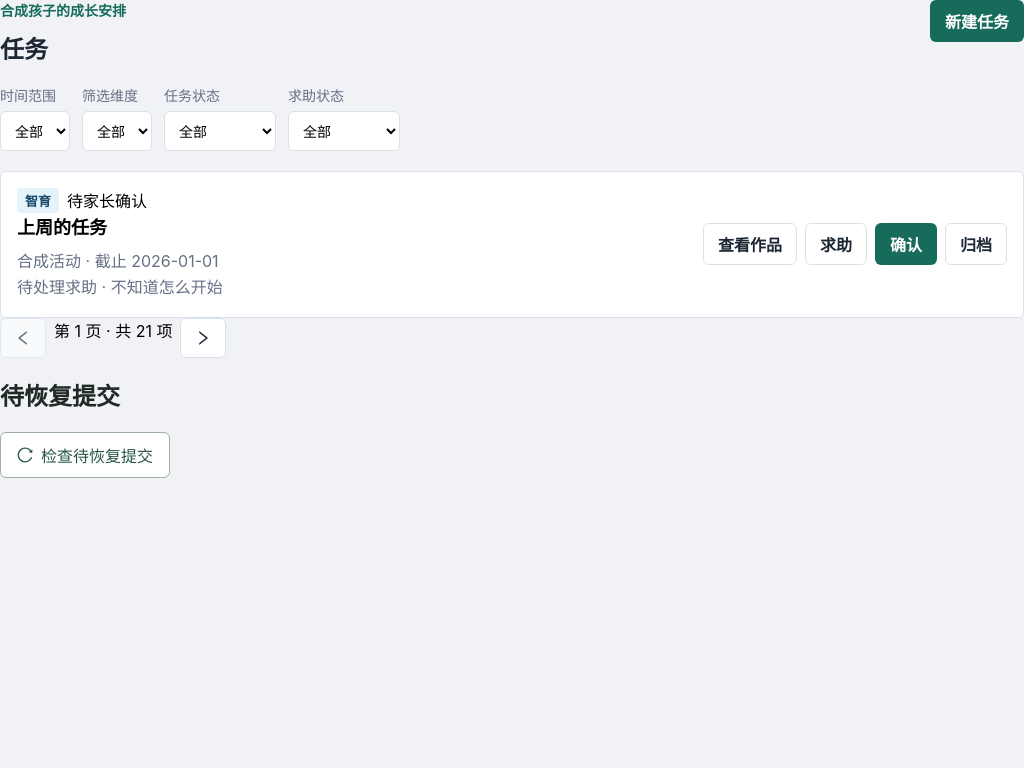
Test: parent list 401 after a successful reply clears the private help dialog
Click the button with aria-label "求助 上周的任务".
click(836, 244)  # box [805,224,867,266]
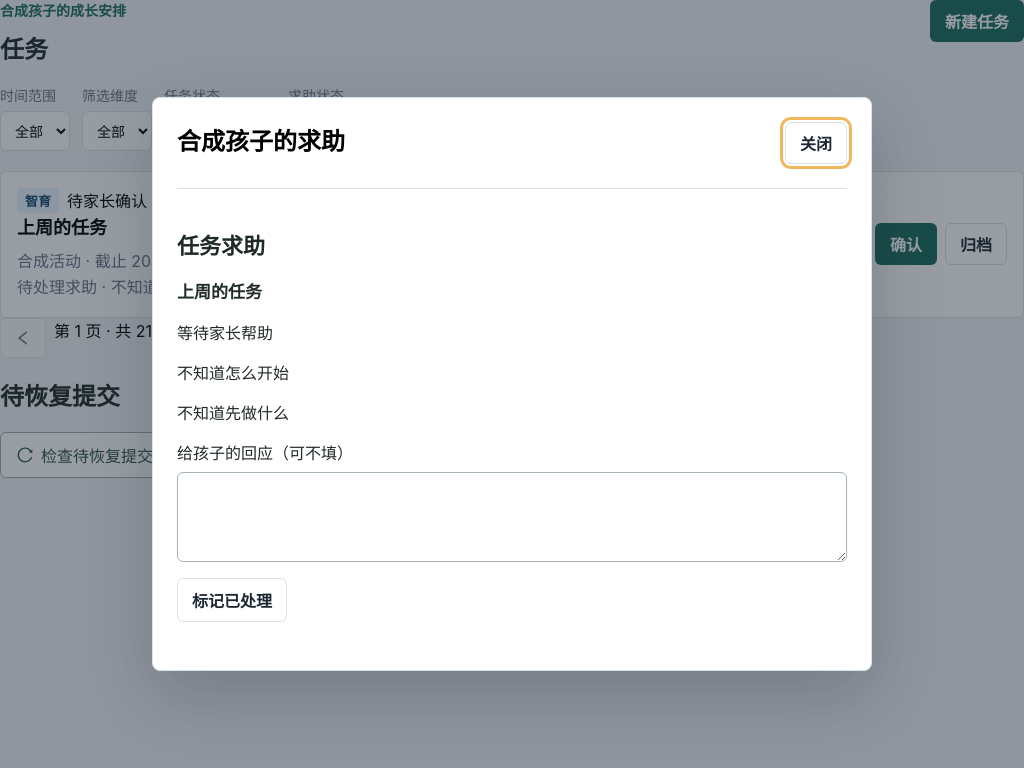
Result: the text "不知道先做什么" is shown at [177,403,289,423]
Type "私有回应" into the text box labelled "给孩子的回应（可不填）".
click(512, 517); type("私有回应")  # box [177,472,847,562]
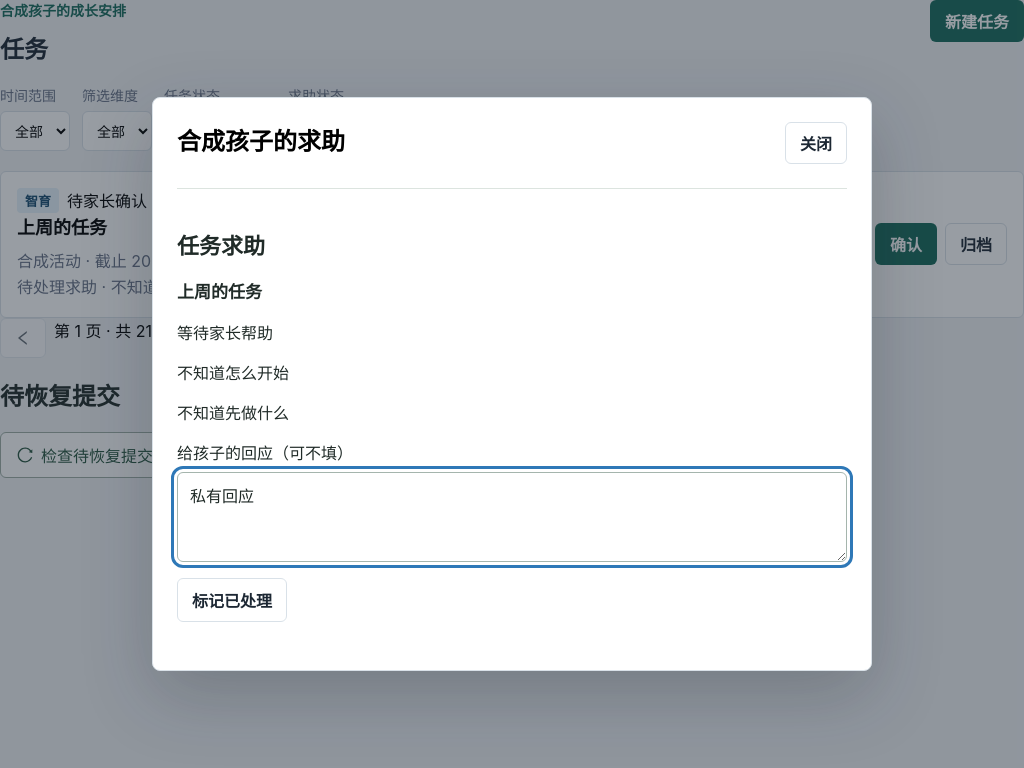
Click the button "标记已处理".
click(232, 600)  # box [177,578,287,622]
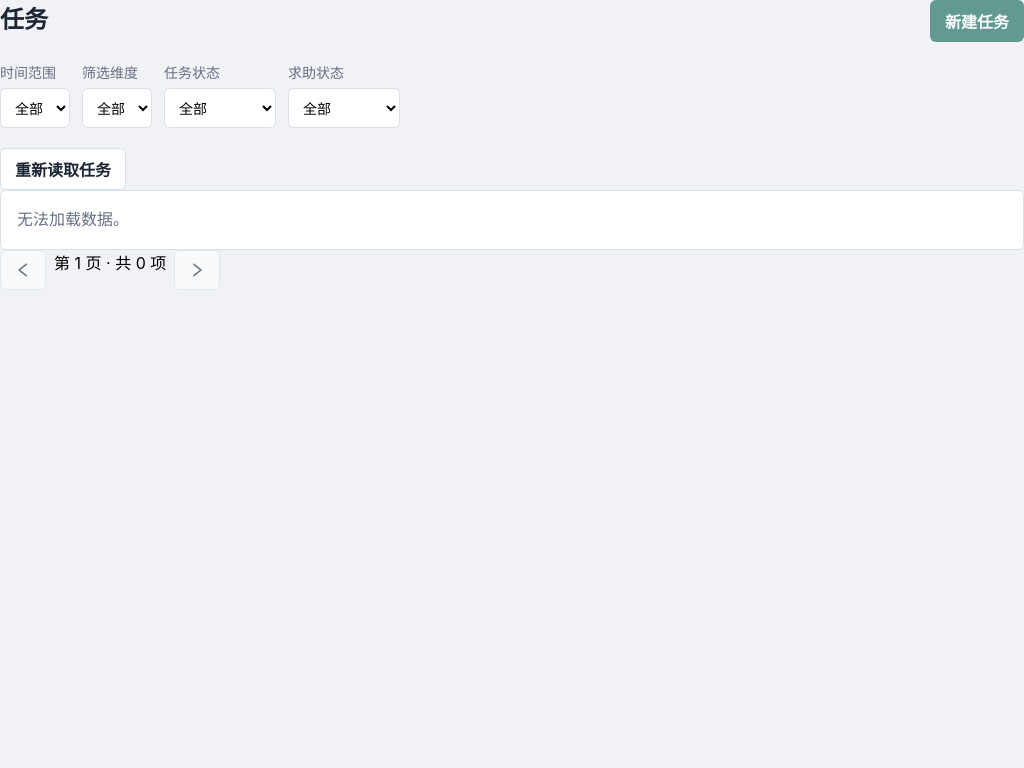
Result: the heading "任务求助" is gone
Result: the text "不知道先做什么" is gone
Result: the dialog is gone
